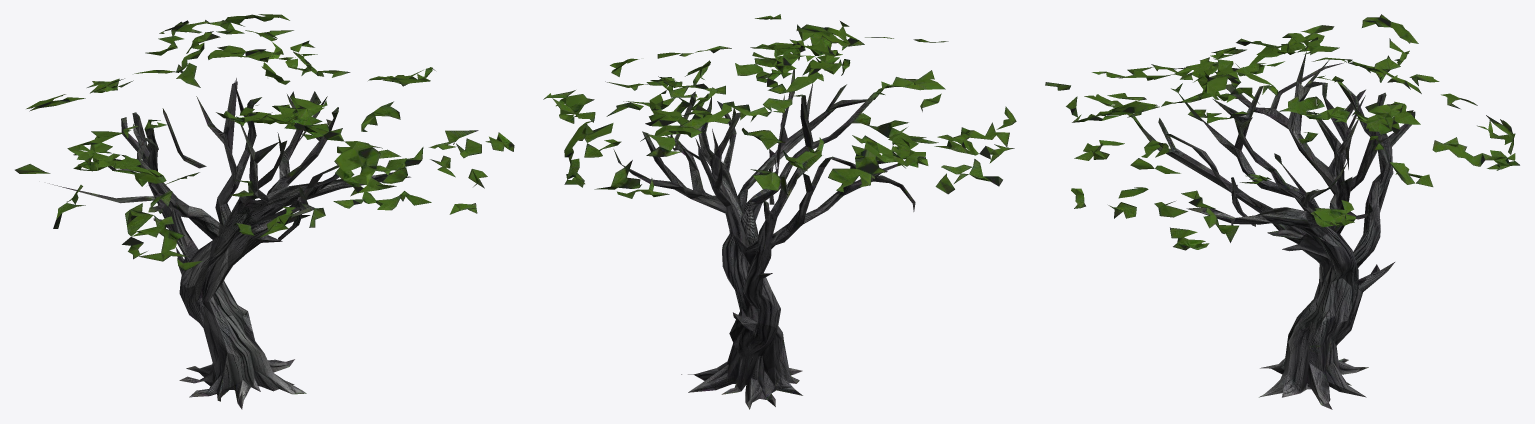
Rendered from acacia.glb.
3 views of the same model, side by side, from view 1: azimuth 30°, elevation 25°; view 2: azimuth 150°, elevation 25°; view 3: azimuth 270°, elevation 25° (orthographic). The views are drawn at different scales.
Size of the model in its own units: 1.7 by 1.2 by 1.67.
Materials: 1 (1 with a texture image).
